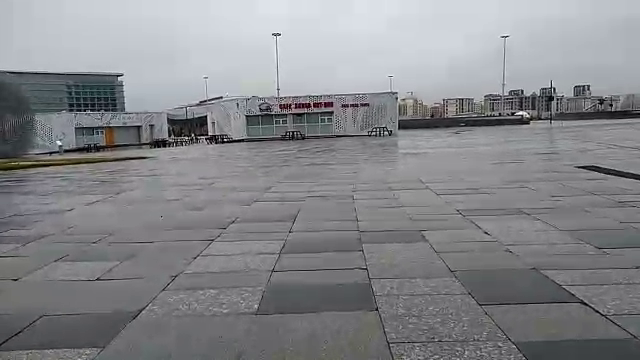kebab: (245, 94, 386, 137)
